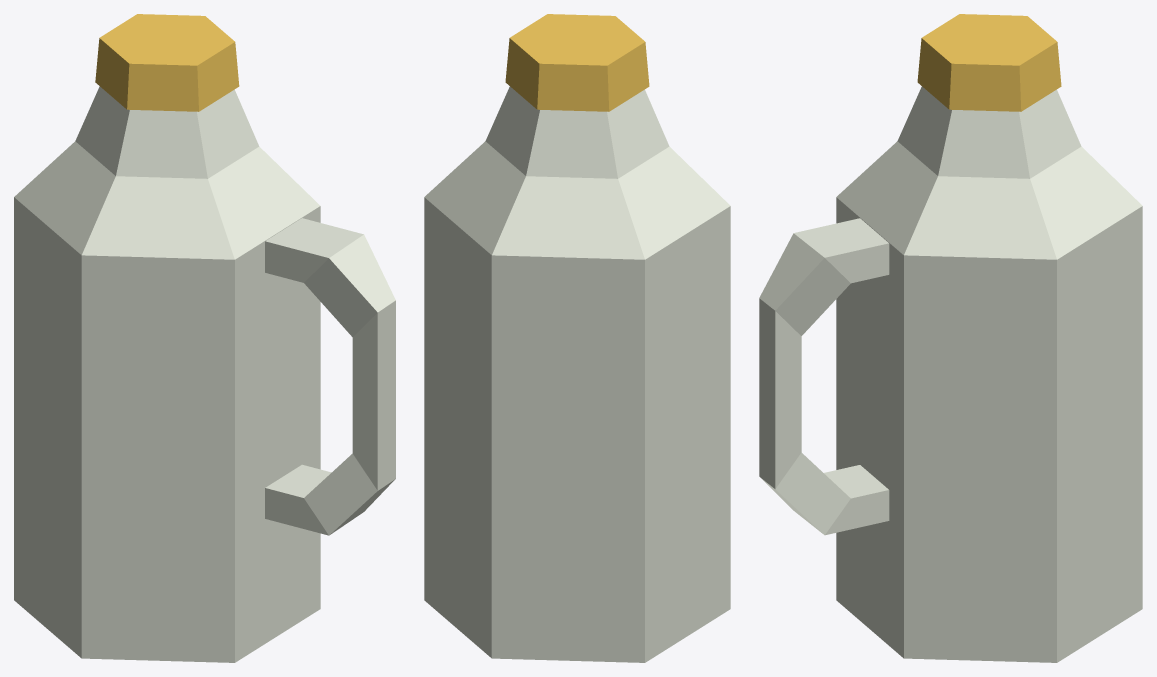
File: Laundry_Bottle_handle2.fbx
3 renders of one model, left to right at view 1: azimuth 30°, elevation 25°; view 2: azimuth 150°, elevation 25°; view 3: azimuth 270°, elevation 25°, orthographic.
Visible parts, largest first — view 1: Laundry_Bottle_handle2; view 2: Laundry_Bottle_handle2; view 3: Laundry_Bottle_handle2.
Boxes of the visible parts, x1,y1,x2,y2 form: Laundry_Bottle_handle2: [14, 14, 395, 662]; Laundry_Bottle_handle2: [424, 14, 730, 662]; Laundry_Bottle_handle2: [759, 14, 1142, 662].
Bounding box in the file's own units: 14.15 × 19.5 × 31.69.
